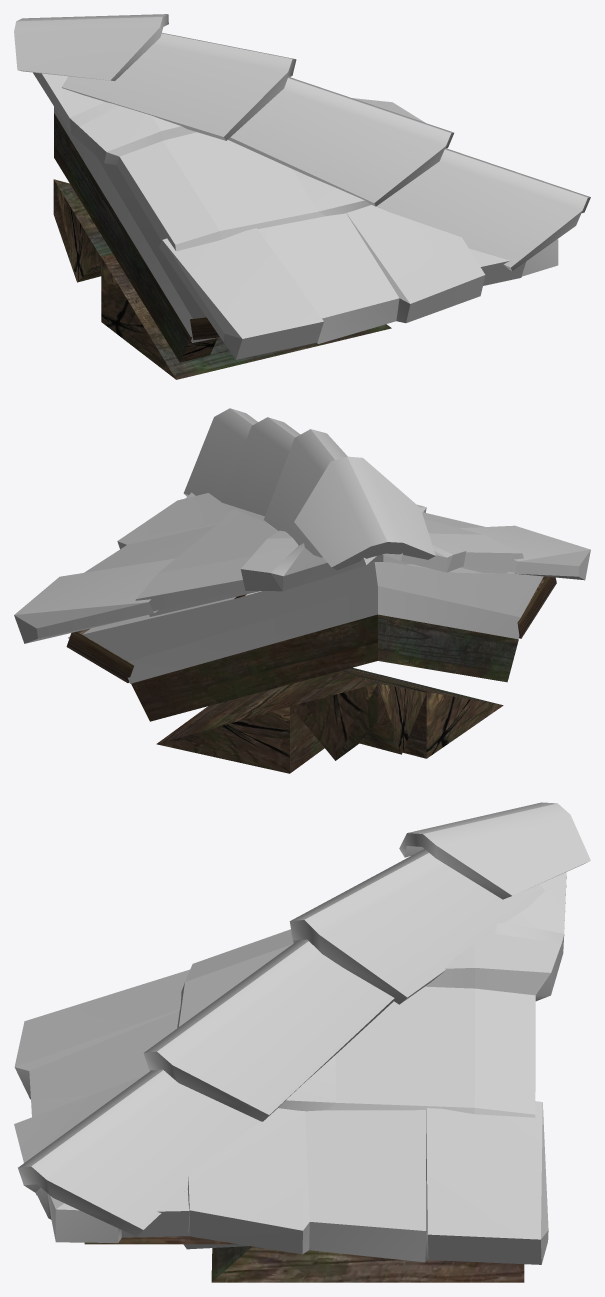
3 renders of one model, top to bottom at view 1: azimuth 30°, elevation 25°; view 2: azimuth 150°, elevation 25°; view 3: azimuth 270°, elevation 25°, orthographic. The views are drawn at different scales.
Parts seen in each view (by area): view 1: SM_T3_Roof_Small_Hip_Shallow_LOD0; view 2: SM_T3_Roof_Small_Hip_Shallow_LOD0; view 3: SM_T3_Roof_Small_Hip_Shallow_LOD0.
Part boxes in pixels (left/top/right/bottom): SM_T3_Roof_Small_Hip_Shallow_LOD0: left=14, top=14, right=590, bottom=379; SM_T3_Roof_Small_Hip_Shallow_LOD0: left=14, top=408, right=590, bottom=773; SM_T3_Roof_Small_Hip_Shallow_LOD0: left=14, top=802, right=590, bottom=1282.
Size of the model in its own units: 1.4 by 0.9696 by 1.41.
